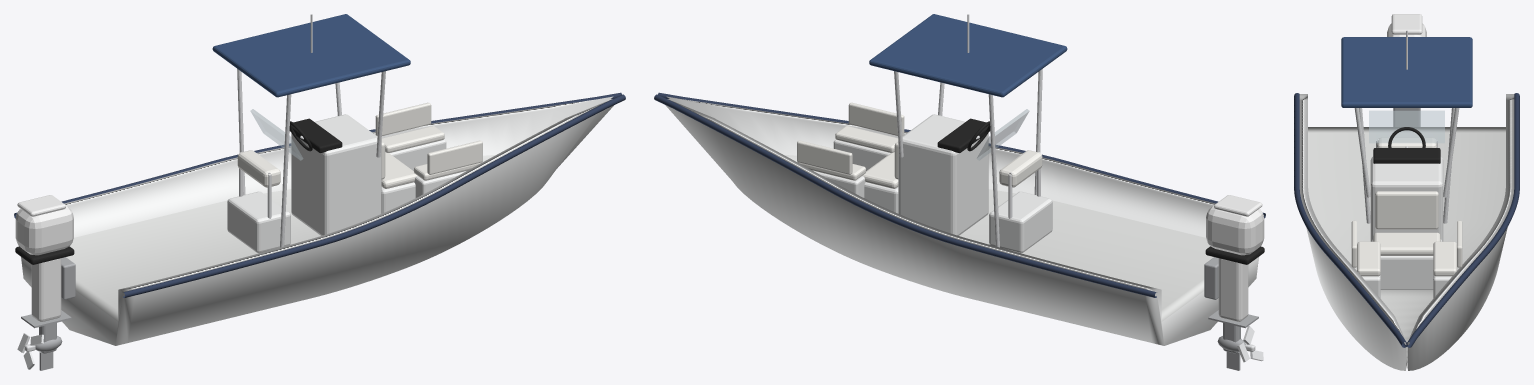
Rendered from boat.glb.
3 renders of one model, left to right at view 1: azimuth 30°, elevation 25°; view 2: azimuth 150°, elevation 25°; view 3: azimuth 270°, elevation 25°, orthographic.
Visible parts, largest first — view 1: hull, canopy, console, rub_rail_-1, post_cooler, cowling, midsection, rub_rail_1, bow_backrest_-1, bow_backrest_1, post_bolster, bow_bench_cushion_1 (+9 smaller); view 2: hull, canopy, console, rub_rail_1, post_cooler, cowling, midsection, rub_rail_-1, bow_backrest_1, bow_backrest_-1, post_bolster, bow_bench_cushion_-1 (+9 smaller); view 3: hull, canopy, console, console_seat_back, windshield, rub_rail_-1, rub_rail_1, console_seat, console_seat_cushion, console_dash, bow_bench_cushion_1, bow_bench_cushion_-1 (+13 smaller).
Boxes of the visible parts, bbox=[...] form: hull: bbox=[16, 96, 613, 345]; canopy: bbox=[212, 14, 410, 97]; console: bbox=[291, 114, 381, 235]; rub_rail_-1: bbox=[123, 94, 625, 297]; post_cooler: bbox=[227, 191, 290, 253]; cowling: bbox=[15, 206, 73, 255]; midsection: bbox=[31, 258, 61, 321]; rub_rail_1: bbox=[14, 92, 621, 218]; bow_backrest_-1: bbox=[427, 140, 482, 174]; bow_backrest_1: bbox=[375, 102, 431, 135]; post_bolster: bbox=[237, 150, 280, 187]; bow_bench_cushion_1: bbox=[381, 126, 444, 152]; hull: bbox=[665, 96, 1263, 345]; canopy: bbox=[869, 14, 1067, 97]; console: bbox=[898, 114, 988, 235]; rub_rail_1: bbox=[654, 94, 1156, 297]; post_cooler: bbox=[989, 191, 1052, 253]; cowling: bbox=[1206, 206, 1264, 255]; midsection: bbox=[1218, 258, 1248, 321]; rub_rail_-1: bbox=[658, 92, 1265, 218]; bow_backrest_1: bbox=[797, 140, 852, 174]; bow_backrest_-1: bbox=[848, 102, 904, 135]; post_bolster: bbox=[999, 150, 1042, 187]; bow_bench_cushion_-1: bbox=[835, 126, 898, 152]; hull: bbox=[1299, 94, 1514, 370]; canopy: bbox=[1341, 37, 1472, 107]; console: bbox=[1370, 156, 1443, 241]; console_seat_back: bbox=[1375, 191, 1438, 229]; windshield: bbox=[1369, 110, 1444, 143]; rub_rail_-1: bbox=[1294, 93, 1407, 347]; rub_rail_1: bbox=[1406, 93, 1519, 347]; console_seat: bbox=[1372, 239, 1441, 289]; console_seat_cushion: bbox=[1373, 232, 1440, 255]; console_dash: bbox=[1373, 148, 1440, 163]; bow_bench_cushion_1: bbox=[1433, 241, 1456, 276]; bow_bench_cushion_-1: bbox=[1357, 241, 1380, 276].
Size of the model in its own units: 7.79 by 3.58 by 2.49.
